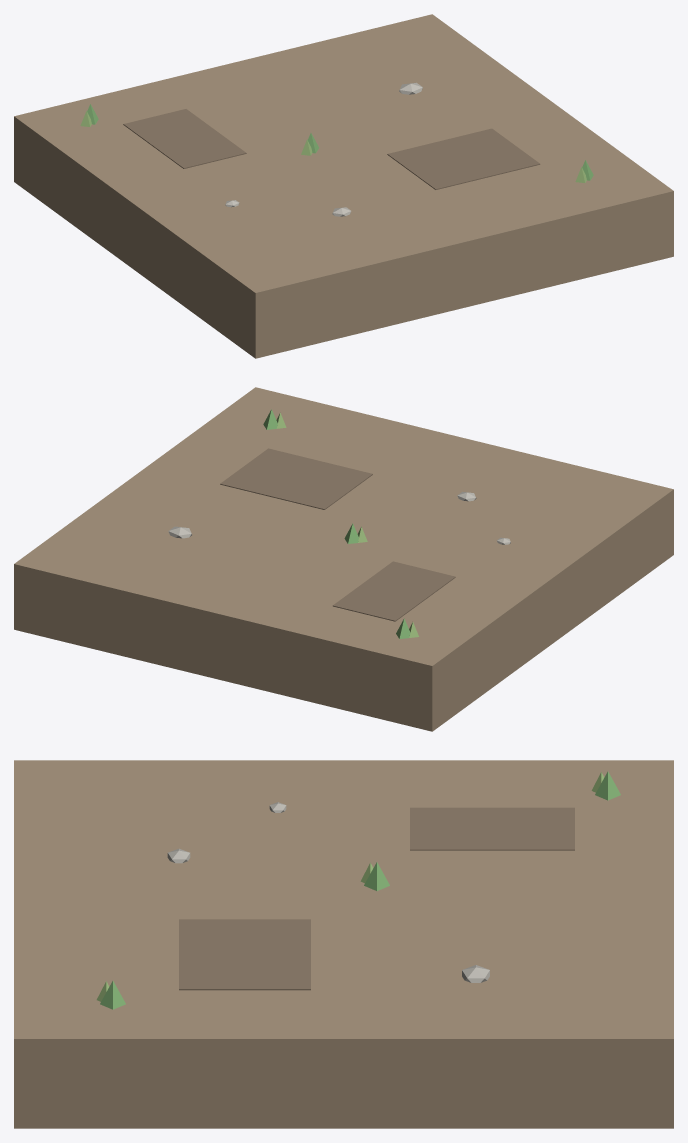
The model's file is terreno__terra.glb.
3 views of the same model, one above another, from view 1: azimuth 30°, elevation 25°; view 2: azimuth 150°, elevation 25°; view 3: azimuth 270°, elevation 25° (orthographic). The views are drawn at different scales.
Visible parts, largest first — view 1: terreno__terra; view 2: terreno__terra; view 3: terreno__terra.
Boxes of the visible parts, bbox=[...] form: terreno__terra: bbox=[14, 14, 673, 358]; terreno__terra: bbox=[14, 387, 673, 731]; terreno__terra: bbox=[14, 760, 673, 1128].
Bounding box in the file's own units: 2 × 0.38 × 2.
